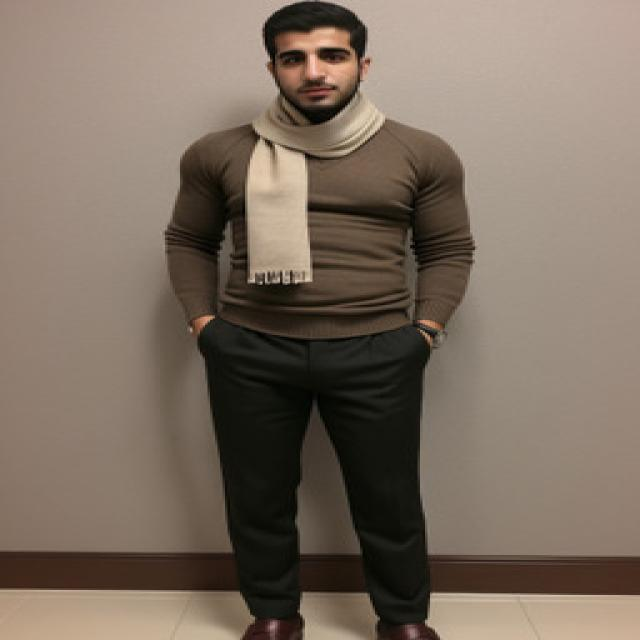Ai human 2: (142, 0, 502, 640)
